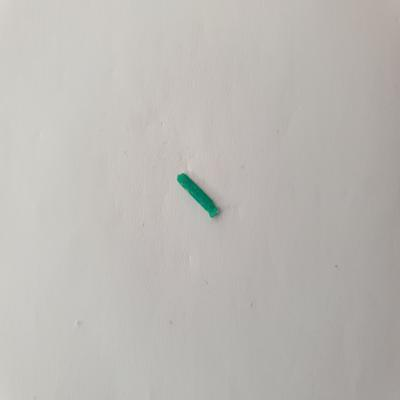plastic: (175, 167, 227, 226)
